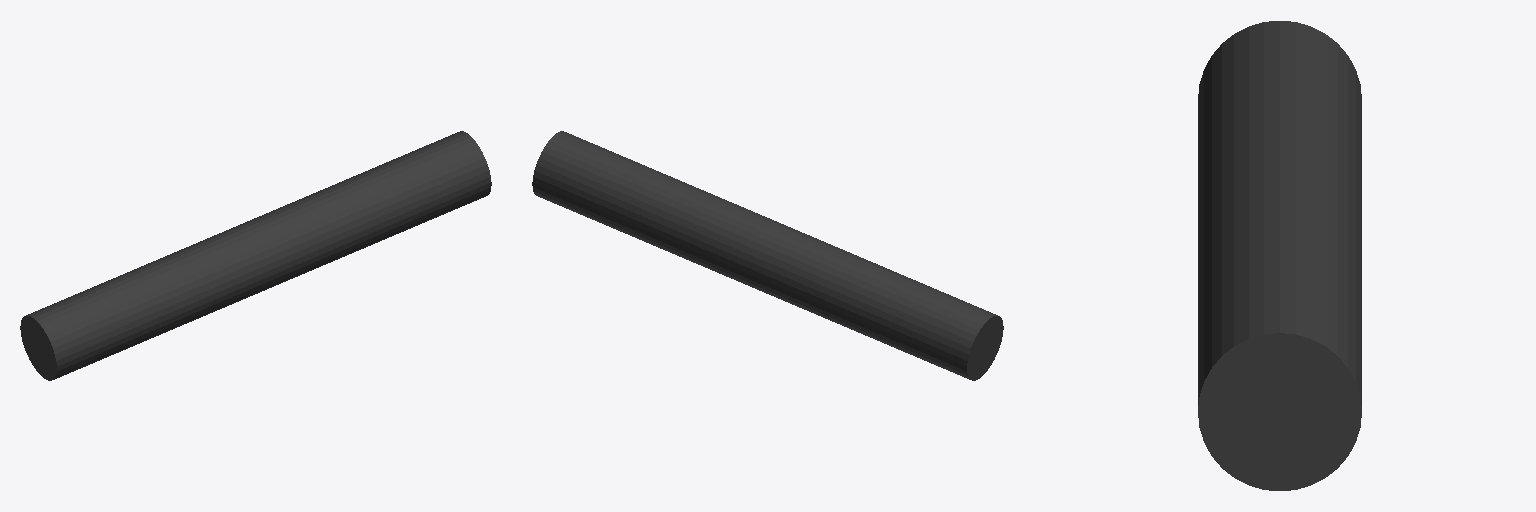
robot.urdf — bowl_v2:
<?xml version="1.0"?>
<robot name="bowl_v2">
  <!-- Frying pan model, Copyright (c) 2016 [author]       -->
  <!-- LICENSE: CC-SA                                         -->
  <link name="pan">
    <contact>
      <lateral_friction value="1.0"/>
      <rolling_friction value="0.0"/>
      <contact_cfm value="0.0"/>
      <contact_erp value="1.0"/>
    </contact>
    <inertial>
      <origin rpy="0 0 0" xyz="0.0 0.0 0.0"/>
       <mass value=".2"/>
       <inertia ixx="1" ixy="0" ixz="0" iyy="1" iyz="0" izz="1"/>
    </inertial>

    <visual>
      <origin rpy="0 0 0" xyz="0 0 0"/>
      <geometry>
        <mesh filename="pan_tefal.obj" scale=".3 .3 .3"/>
      </geometry>
    </visual>
    <visual>  <!-- handle -->
      <geometry>
        <cylinder radius="0.005" length="0.0725"/>
      </geometry>
      <origin rpy="0 1.4 0" xyz="0.07 0 0.025"/>
      <material name="stainless">
        <color rgba="0.3 0.3 0.3 1"/>
      </material>
    </visual>

    <collision>
      <origin rpy="0 0 0" xyz="0 0 0"/>
      <geometry>
        <mesh filename="pan_tefal.obj" scale=".3 .3 .3"/>
      </geometry>
    </collision>
    <collision>  <!-- handle -->
      <geometry>
        <cylinder radius="0.005" length="0.0725"/>
      </geometry>
      <origin rpy="0 1.4 0" xyz="0.07 0 0.025"/>
      <material name="stainless">
        <color rgba="0.3 0.3 0.3 1"/>
      </material>
    </collision>

  </link>

</robot>

--- Render facts (derived) ---
3 views of the same robot in one strip: view 1: azimuth 30°, elevation 25°; view 2: azimuth 150°, elevation 25°; view 3: azimuth 270°, elevation 25° (orthographic).
Robot: bowl_v2 — 1 links, 0 joints (none); root link pan; default pose: every joint at zero.
Visible links, largest first — view 1: pan; view 2: pan; view 3: pan.
Link boxes in pixels (x1=…): pan: x1=20, y1=131, x2=491, y2=380; pan: x1=532, y1=131, x2=1003, y2=380; pan: x1=1198, y1=21, x2=1361, y2=490.
Bounding box of the posed robot: 0.0731 × 0.01 × 0.0222 m (x, y, z).
Meshes: 1 distinct files referenced, 0 mesh visuals loaded (none loaded); not drawn: 1 (reference not matched to a file when rendering).